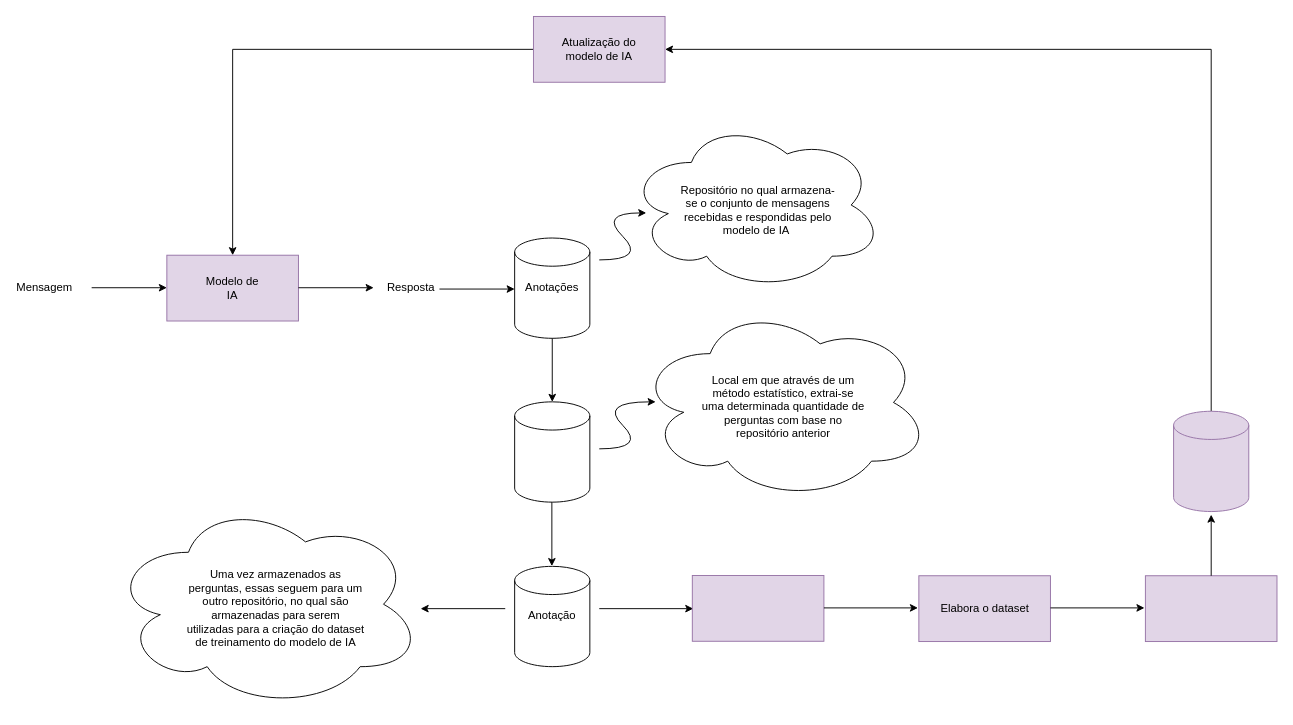
This 1293x725 diagram has some shape labels left out. Each missing label, with the centre of its shape:
Amostras: [552,451]
Extrai-se os dados do repositório: [757,608]
Realiza o treinamento: [1210,608]
Repositório dos modelos criados: [1211,461]
